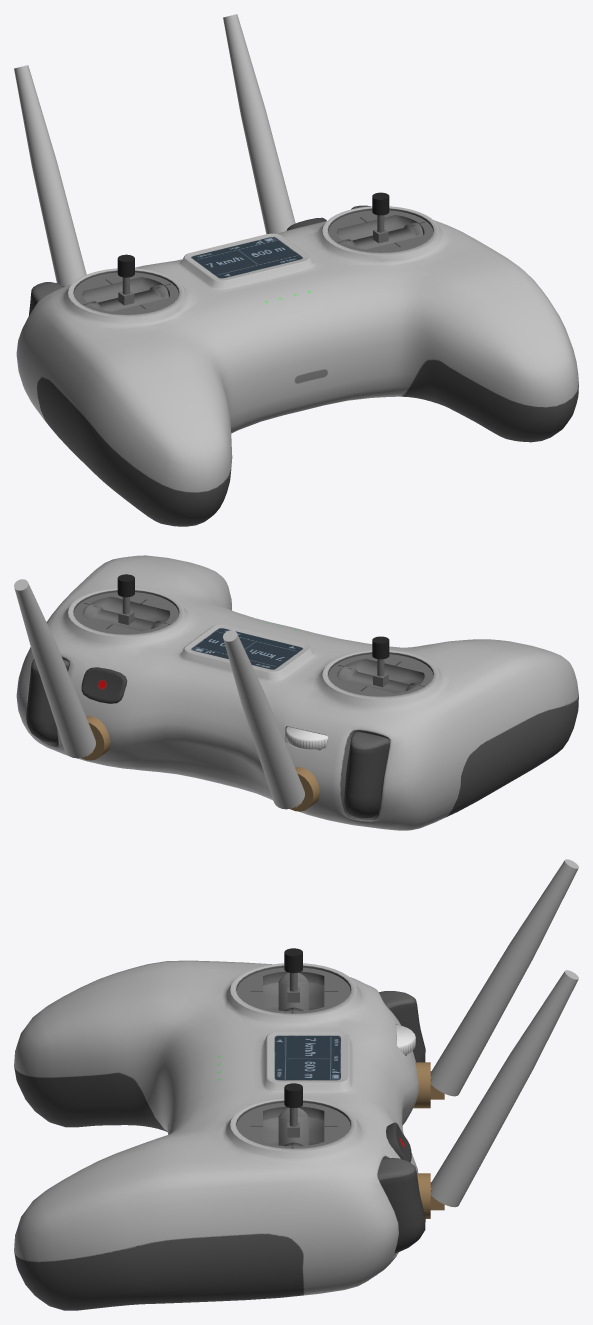
Rendered from Controller.fbx.
3 renders of one model, top to bottom at view 1: azimuth 30°, elevation 25°; view 2: azimuth 150°, elevation 25°; view 3: azimuth 270°, elevation 25°, orthographic. The views are drawn at different scales.
Parts seen in each view (by area): view 1: Controller_low, Controller_low.004, Controller_low.005; view 2: Controller_low, Controller_low.005, Controller_low.004; view 3: Controller_low, Controller_low.004, Controller_low.005.
Part boxes in pixels (x1,y1,x2,y2): Controller_low: (14, 14, 578, 526); Controller_low.004: (117, 254, 134, 305); Controller_low.005: (372, 192, 389, 243); Controller_low: (14, 555, 578, 830); Controller_low.005: (117, 574, 134, 624); Controller_low.004: (372, 636, 389, 687); Controller_low: (14, 859, 578, 1310); Controller_low.004: (284, 948, 302, 1002); Controller_low.005: (284, 1083, 302, 1137).
Size of the model in its own units: 0.25 by 0.1408 by 0.2456.
